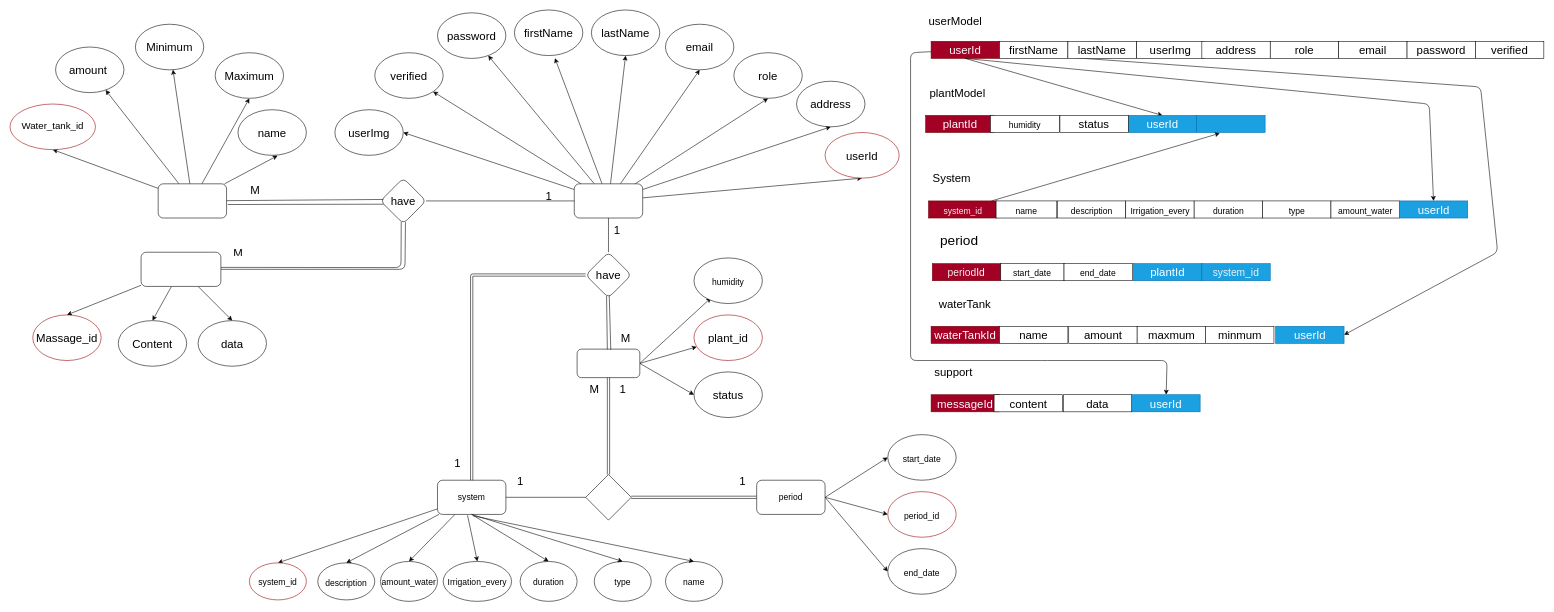
Some shapes in this 1554 by 612 pixel diagram are drawn without their labels. Here are the shapes that lost their labels. From the top down, the box of each, then its label:
(1196, 115, 1265, 133): systemId
(158, 183, 227, 218): Water_tank
(574, 183, 643, 218): user
(141, 252, 221, 286): Tec_Support
(577, 349, 640, 378): plant
(585, 474, 631, 520): has
